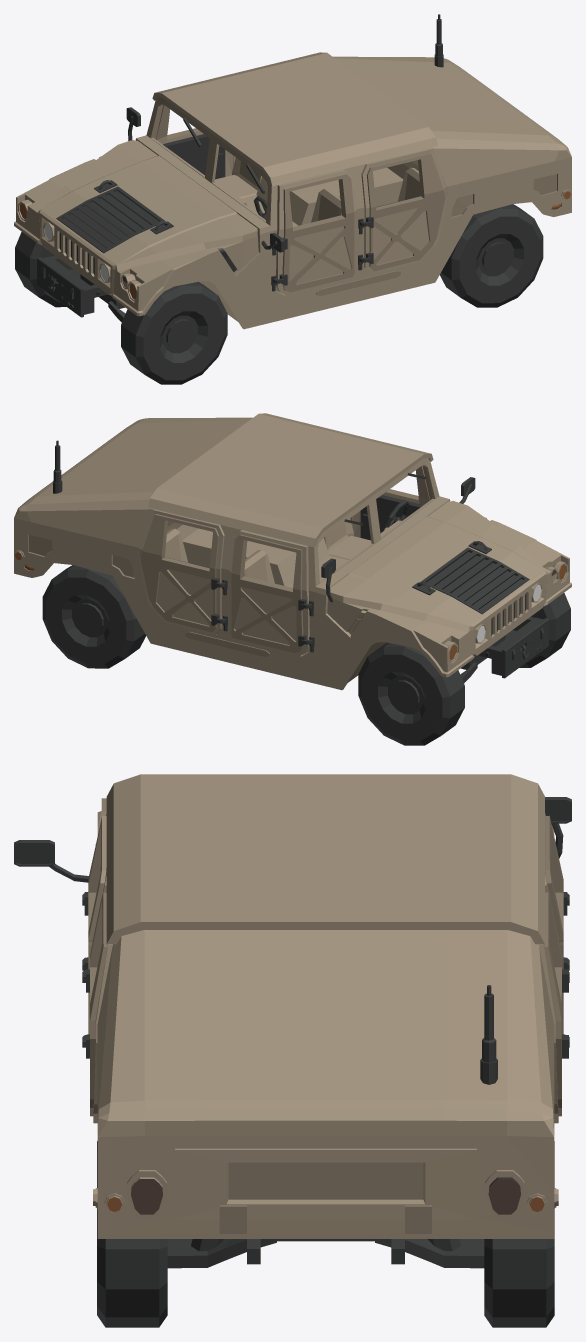
The model's file is low_poly_humvee_free.glb.
3 views of the same model, one above another, from view 1: azimuth 30°, elevation 25°; view 2: azimuth 150°, elevation 25°; view 3: azimuth 270°, elevation 25° (orthographic). The views are drawn at different scales.
Visible parts, largest first — view 1: humvee.001; view 2: humvee.001; view 3: humvee.001.
Boxes of the visible parts, left/top/right/bottom form: humvee.001: left=14, top=14, right=571, bottom=384; humvee.001: left=14, top=413, right=571, bottom=745; humvee.001: left=14, top=774, right=571, bottom=1327.
Size of the model in its own units: 4.68 by 2 by 2.7.
Materials: 1 (1 with a texture image).
